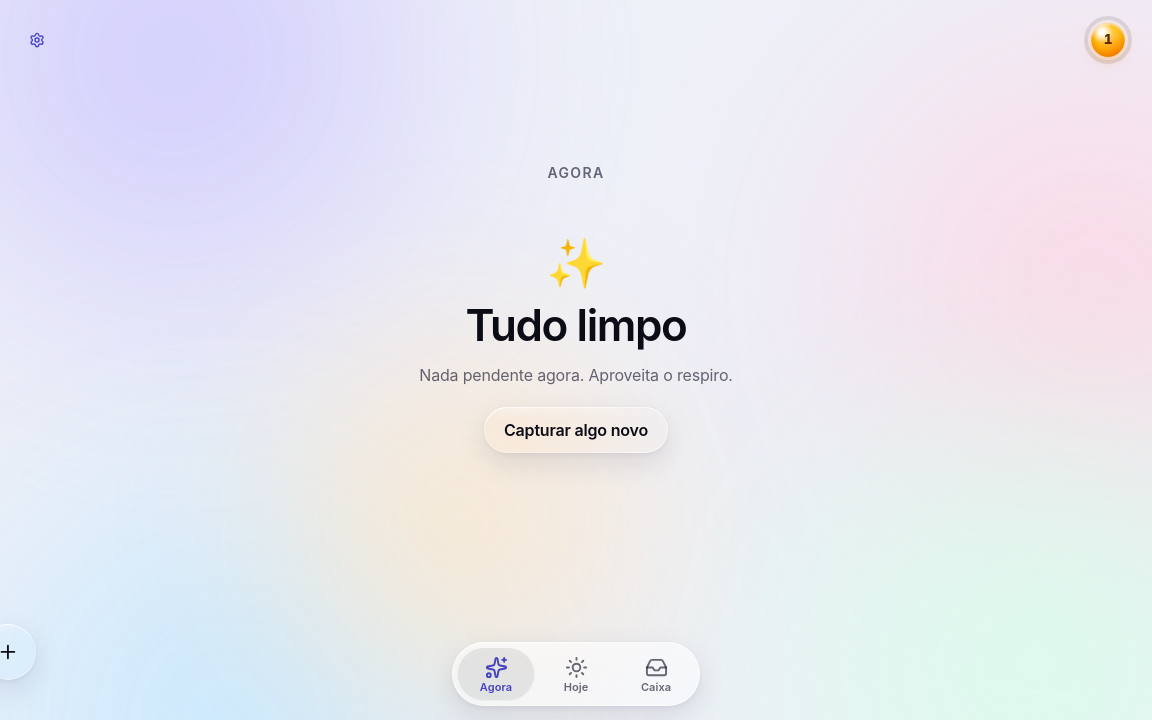
Test: Shell › abre em Agora e navega entre as 3 abas
This screenshot has width=1152, height=720.
Expected: the heading "Agora" is shown, [547,164,605,181]
Step 1. Click the tab "Hoje" → {"x": 576, "y": 674}, box [537,647,615,701]
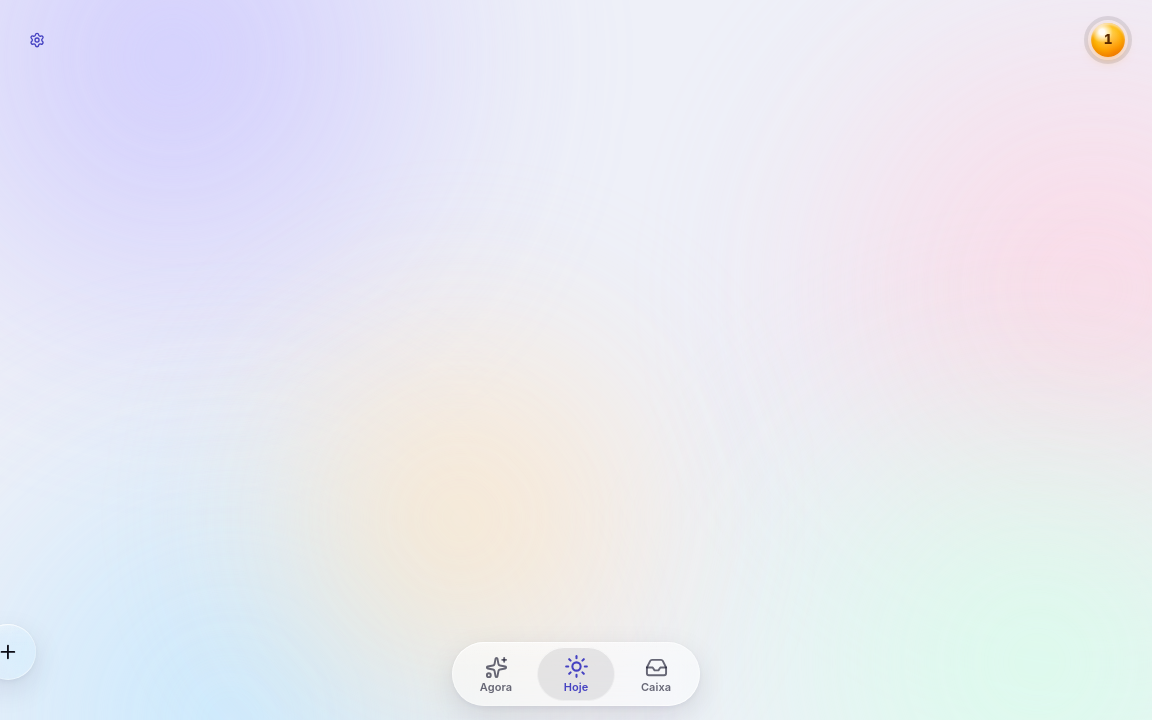
Step 2. Click the tab "Caixa" → {"x": 656, "y": 674}, box [617,647,695,701]
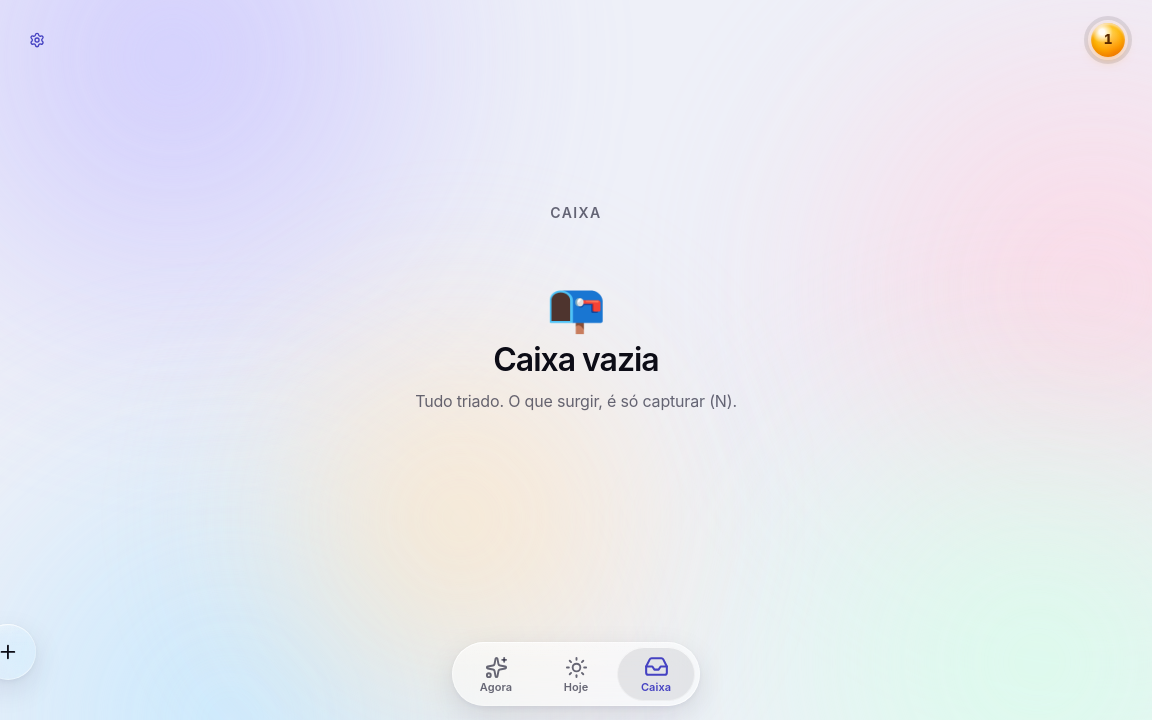
Result: the heading "Caixa" is shown at [550,204,602,221]
